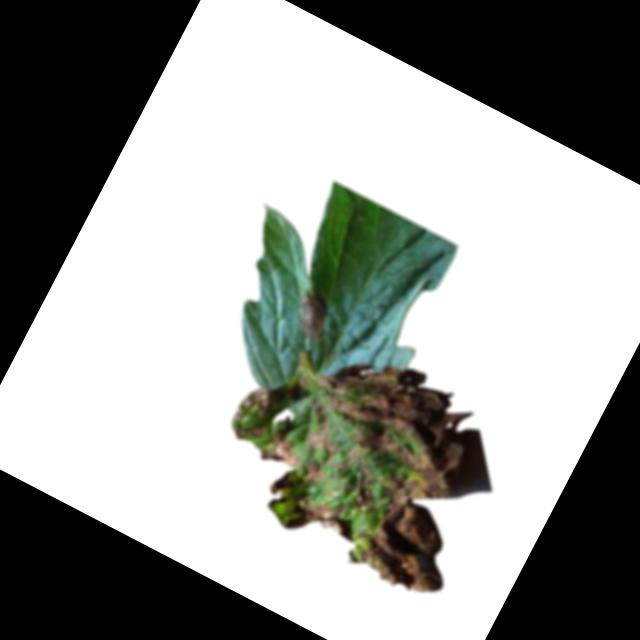Early_blight: (197, 313, 520, 607), (286, 285, 339, 342)
